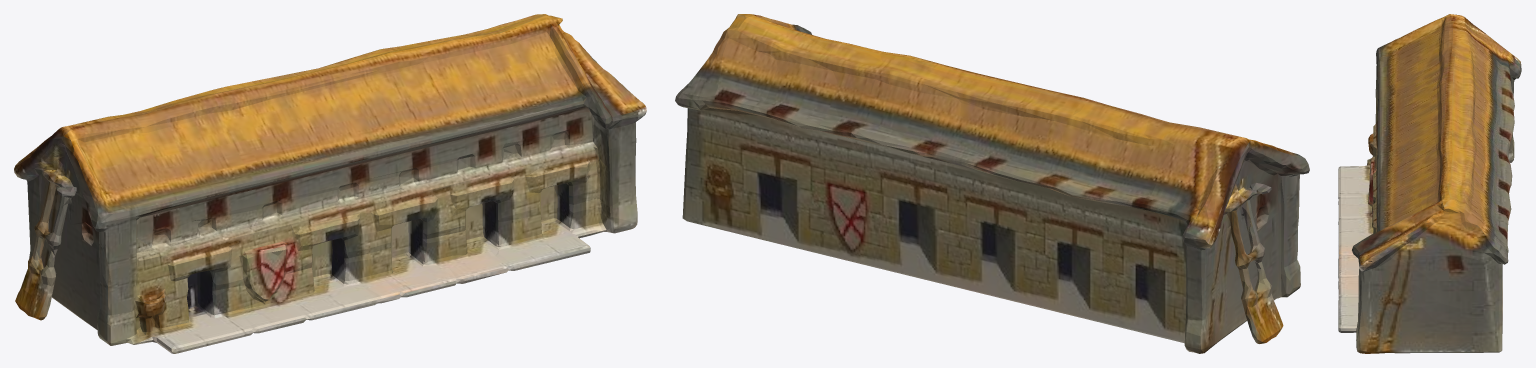
The model's file is kallanka.glb.
3 views of the same model, side by side, from view 1: azimuth 30°, elevation 25°; view 2: azimuth 150°, elevation 25°; view 3: azimuth 270°, elevation 25° (orthographic). The views are drawn at different scales.
Parts seen in each view (by area): view 1: geometry_0; view 2: geometry_0; view 3: geometry_0.
Part boxes in pixels (x1,y1,x2,y2): geometry_0: (14, 14, 646, 353); geometry_0: (675, 14, 1309, 353); geometry_0: (1338, 14, 1521, 353).
Size of the model in its own units: 3.23 by 1 by 1.15.
1 material, 1 textured.
